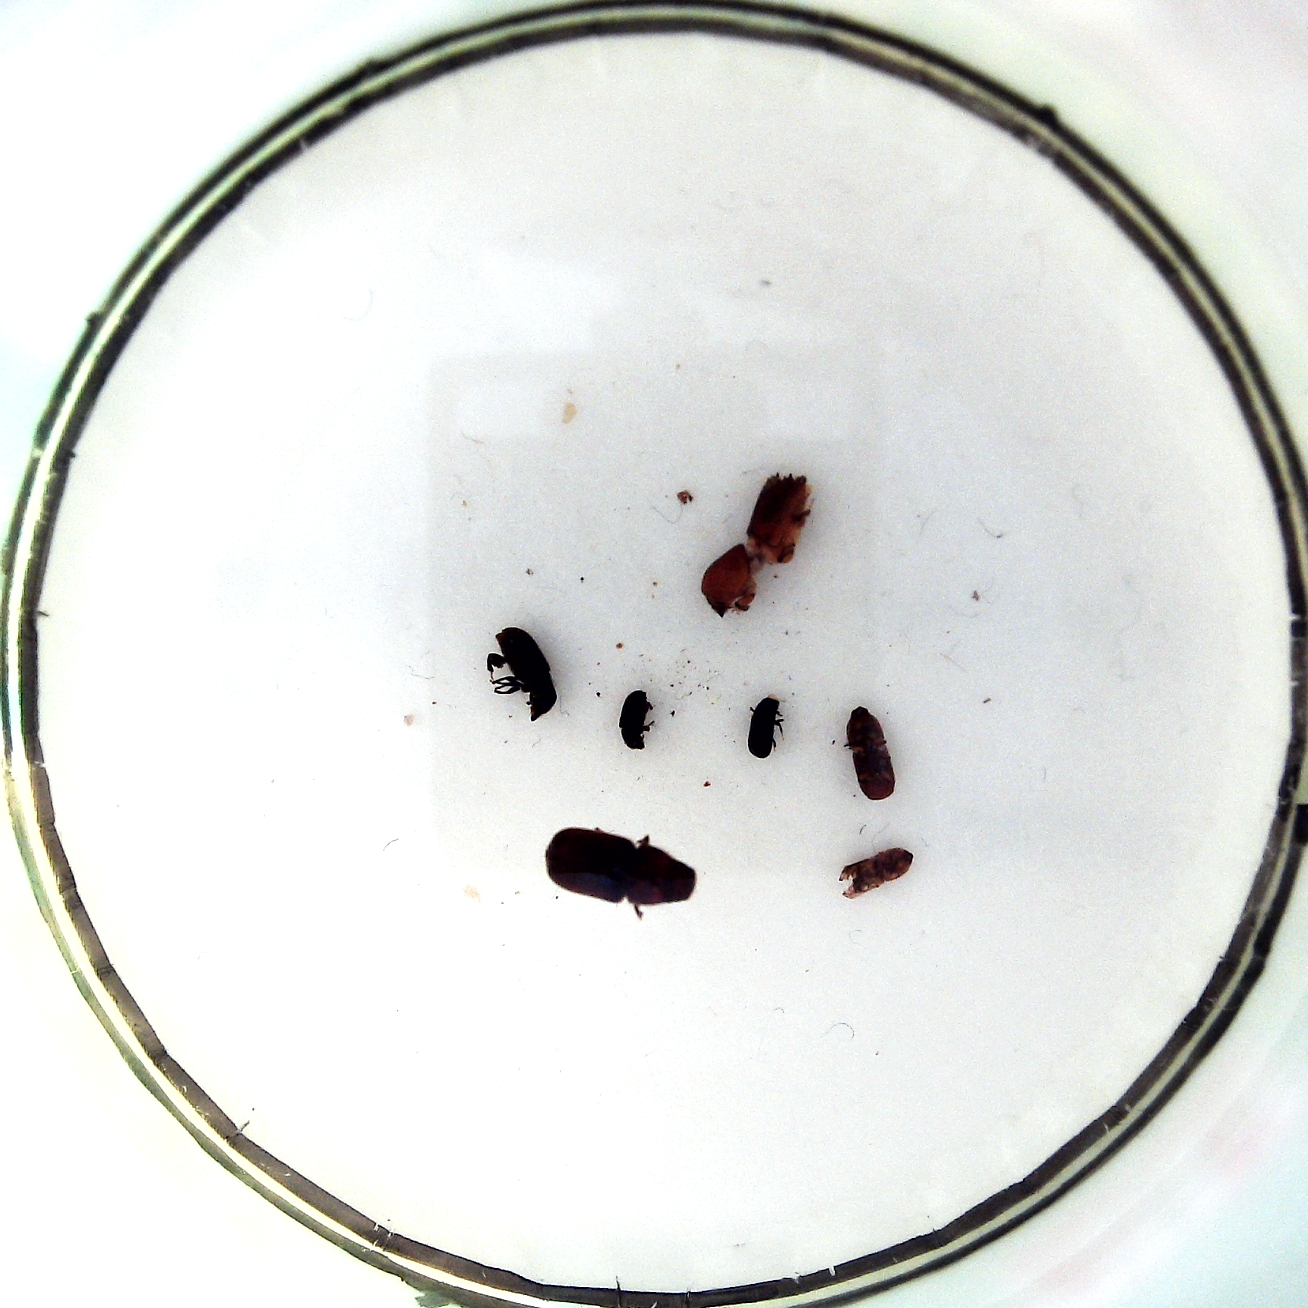Boerner: (700, 470, 815, 620)
Leconte: (541, 824, 700, 915)
Linnaeus: (843, 707, 896, 806)
acuminatus: (838, 846, 916, 902)
armandi: (482, 626, 557, 720)
coleoptera: (746, 694, 786, 764), (618, 686, 659, 752)
